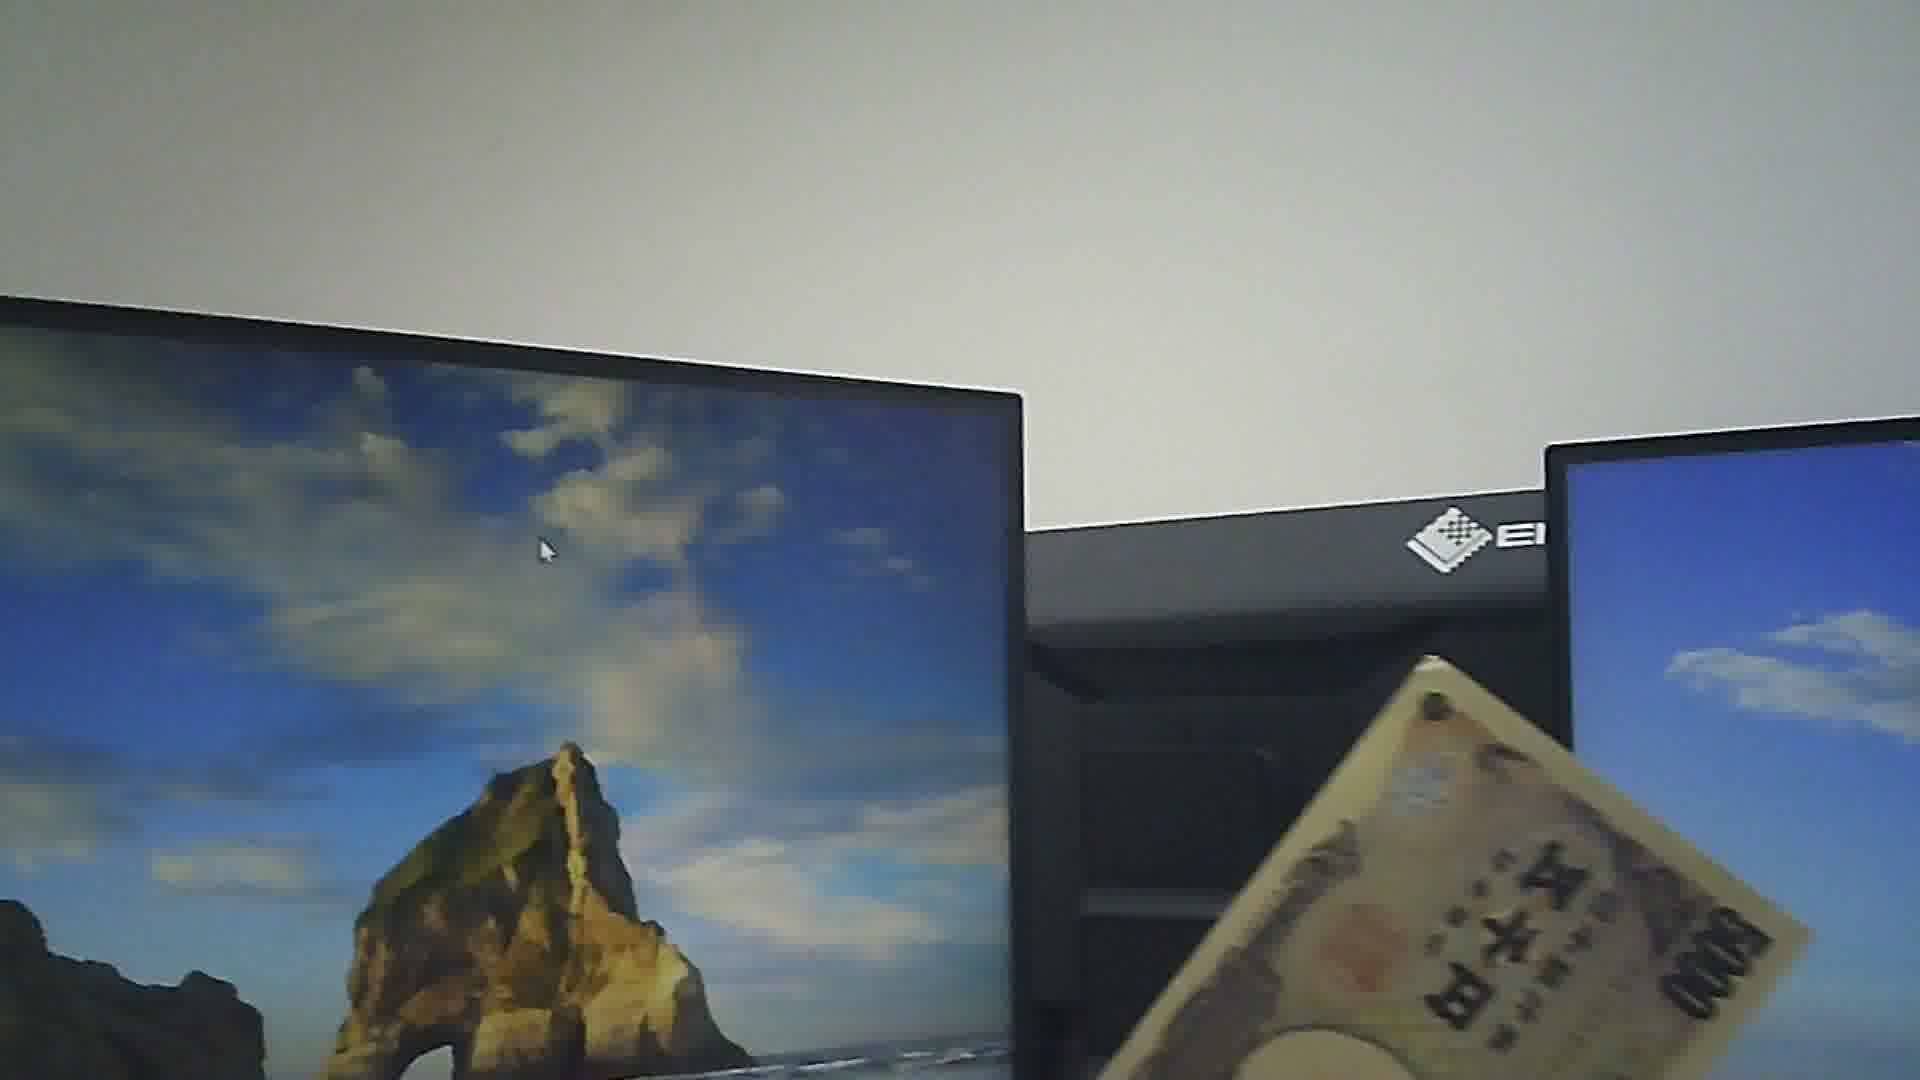5,000 Yen: (1127, 645, 1795, 1079)
